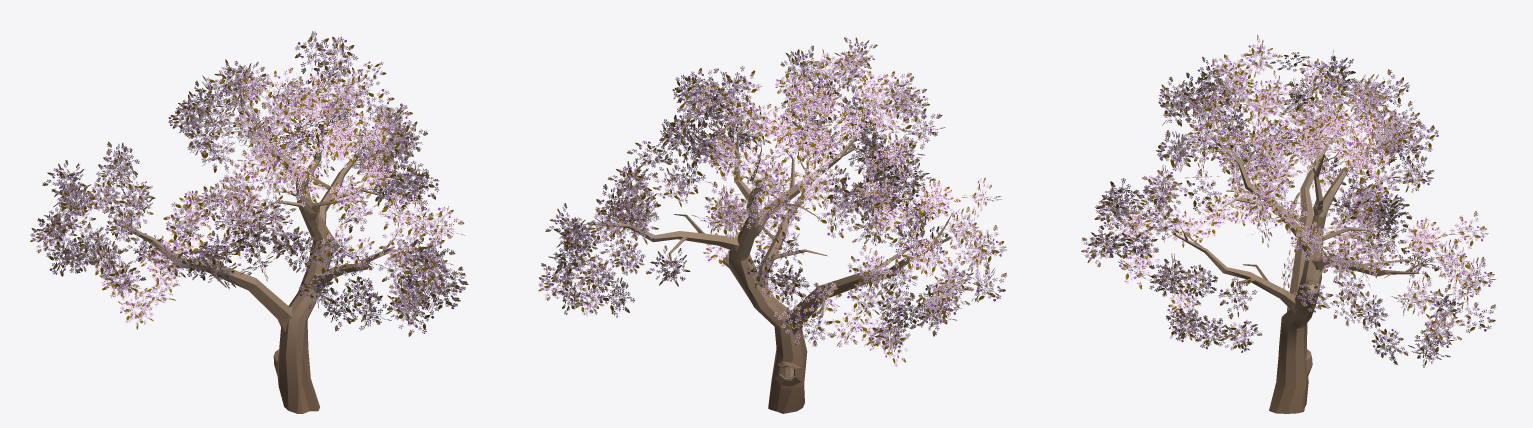
File: treeFlowerPurple.fbx
3 renders of one model, left to right at view 1: azimuth 30°, elevation 25°; view 2: azimuth 150°, elevation 25°; view 3: azimuth 270°, elevation 25°, orthographic. The views are drawn at different scales.
Parts seen in each view (by area): view 1: PT_Fruit_Tree_01_Purple; view 2: PT_Fruit_Tree_01_Purple; view 3: PT_Fruit_Tree_01_Purple.
Part boxes in pixels (x1,y1,x2,y2): PT_Fruit_Tree_01_Purple: [30, 30, 468, 413]; PT_Fruit_Tree_01_Purple: [538, 37, 1006, 413]; PT_Fruit_Tree_01_Purple: [1081, 35, 1496, 413].
Bounding box in the file's own units: 66.1 × 51.88 × 60.17.
